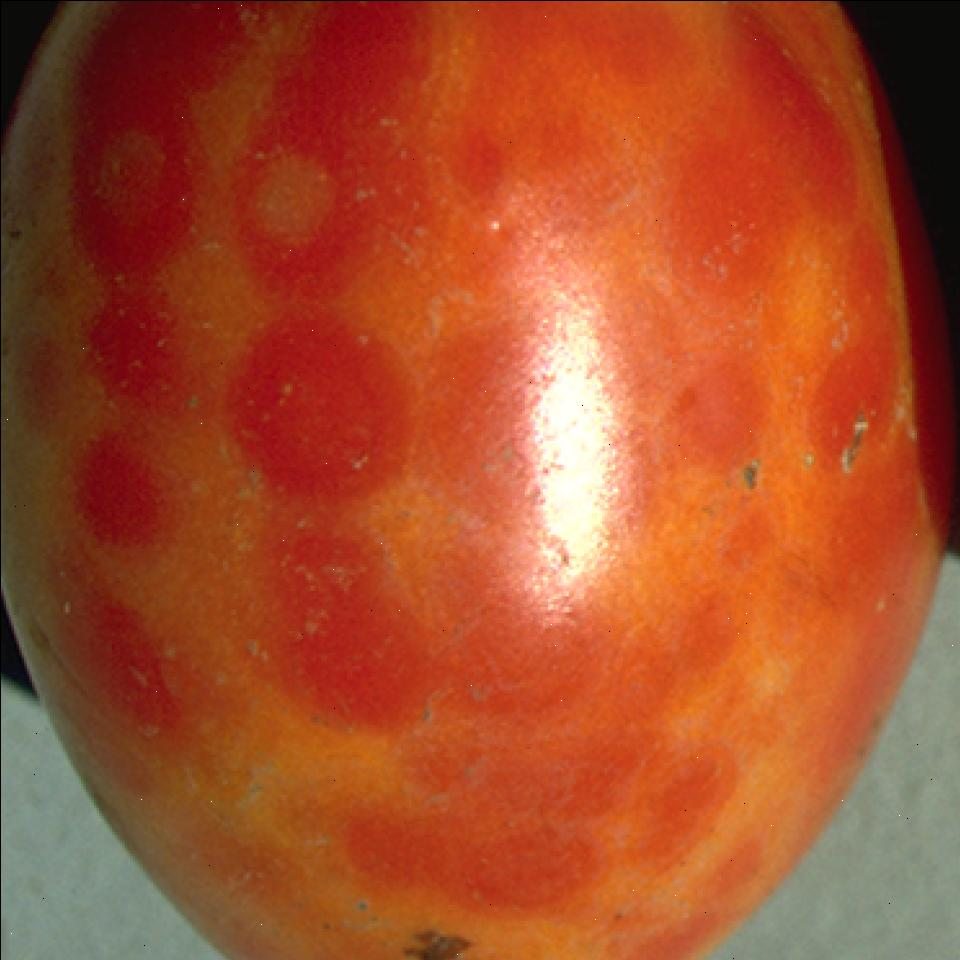Spotted wilt Virus: (0, 0, 949, 960)
